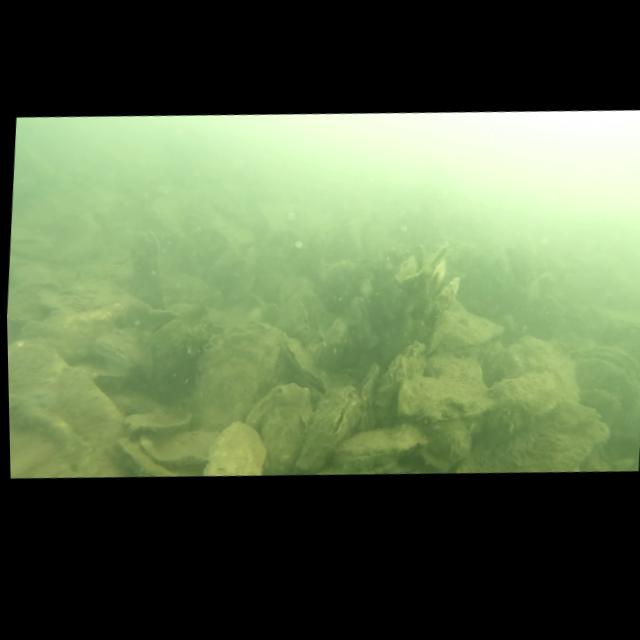Oyster-Closed: (144, 299, 217, 409), (290, 380, 364, 479), (364, 334, 428, 437), (334, 420, 428, 466), (140, 424, 223, 470), (111, 431, 183, 482), (275, 334, 328, 395), (124, 399, 193, 438), (345, 291, 375, 349), (282, 292, 314, 343), (320, 314, 348, 354)
Oyster-Indeterminate: (461, 391, 612, 483), (186, 315, 292, 446), (241, 374, 317, 479), (201, 414, 271, 481)
Oyster-Open: (566, 333, 640, 415), (118, 222, 170, 303), (424, 256, 465, 327), (87, 325, 145, 373)
